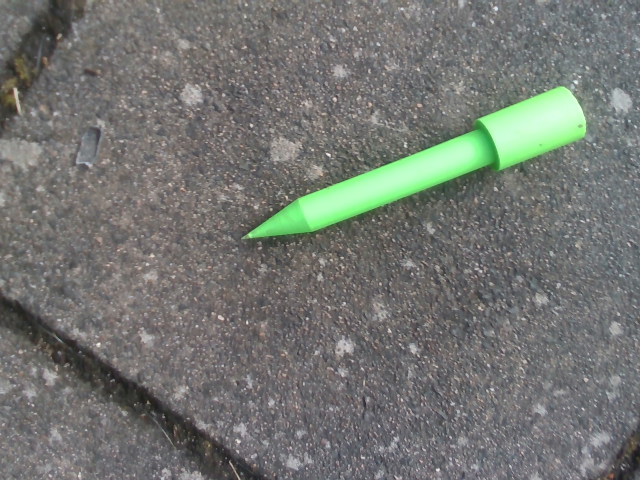Probe: (232, 76, 595, 249)
